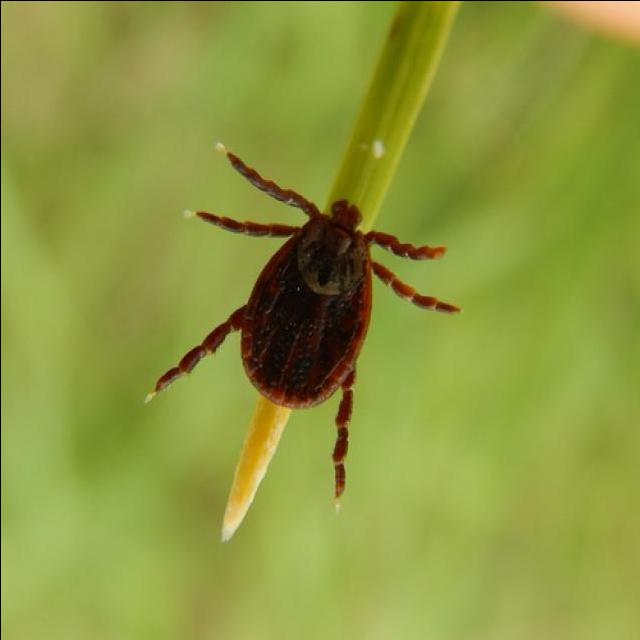Dermacentor Reticulatus-F: (151, 150, 458, 498)
